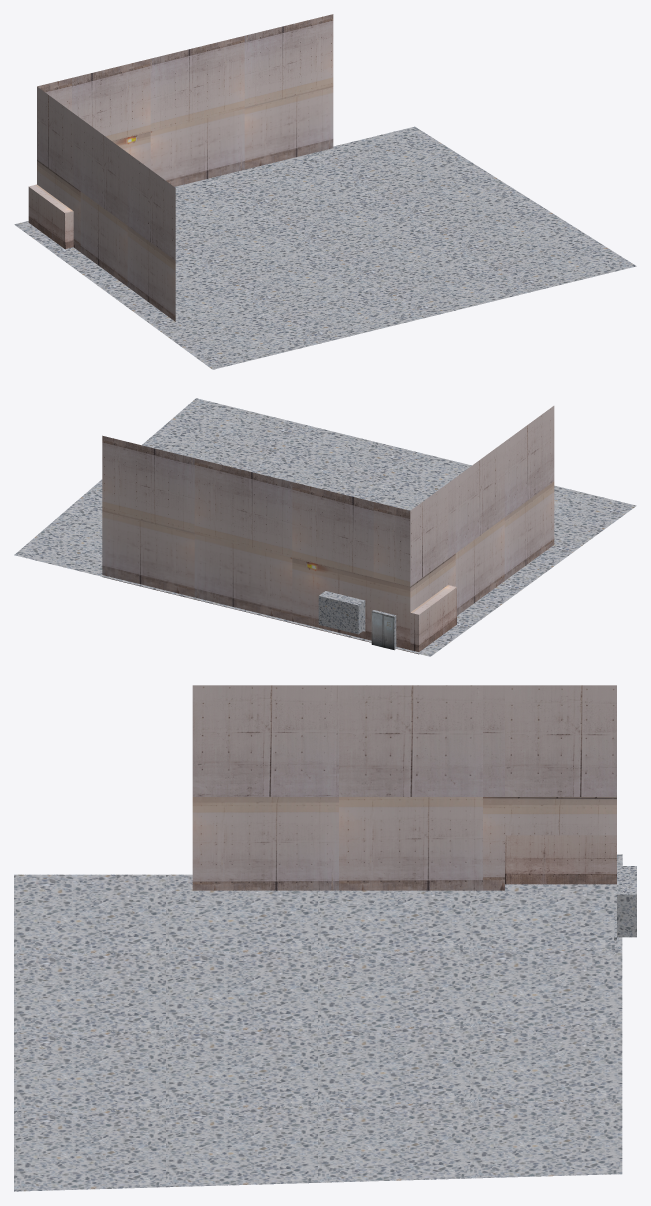
File: factory2_2.fbx
3 views of the same model, one above another, from view 1: azimuth 30°, elevation 25°; view 2: azimuth 150°, elevation 25°; view 3: azimuth 270°, elevation 25° (orthographic). The views are drawn at different scales.
Parts seen in each view (by area): view 1: walls1; view 2: walls1; view 3: walls1.
Part boxes in pixels (<box>): walls1: <box>14,14,636,369</box>; walls1: <box>14,398,636,656</box>; walls1: <box>14,685,636,1191</box>.
Bounding box in the file's own units: 207 × 63.35 × 172.
Materials: 1 (1 with a texture image).
